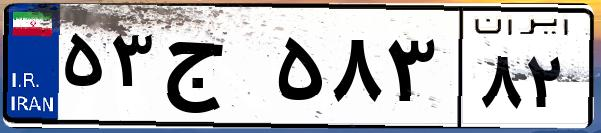2: (525, 38, 570, 115)
3: (385, 28, 445, 110), (110, 28, 158, 98)
5: (270, 28, 330, 110), (57, 26, 110, 100)
8: (330, 28, 385, 110), (475, 38, 525, 113)
ج: (158, 20, 270, 120)
